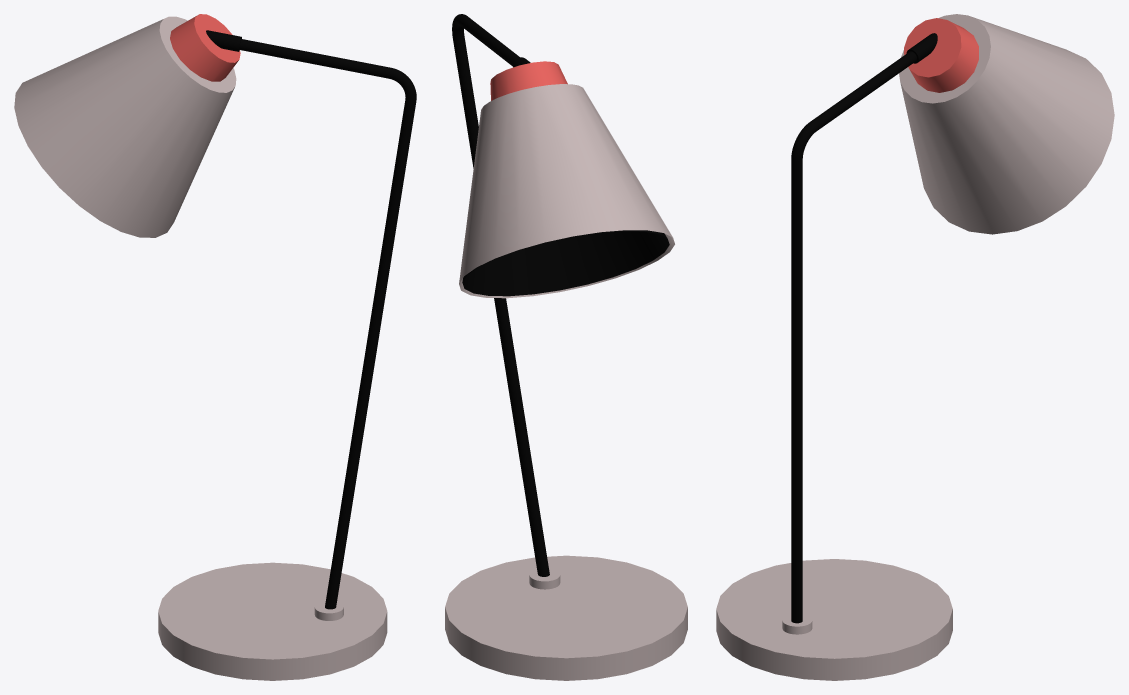
Rendered from lamp.obj.
3 views of the same model, side by side, from view 1: azimuth 30°, elevation 25°; view 2: azimuth 150°, elevation 25°; view 3: azimuth 270°, elevation 25° (orthographic). The views are drawn at different scales.
Visible parts, largest first — view 1: object 5, d_model:_002, d_model:_001, d_model:Group_001; view 2: object 5, d_model:_002, object 4, d_model:_001, d_model:Group_001; view 3: object 5, d_model:_002, d_model:_001, d_model:Group_001.
Boxes of the visible parts, x1=… form: object 5: x1=14, y1=16, x2=236, y2=237; d_model:_002: x1=158, y1=562, x2=387, y2=680; d_model:_001: x1=206, y1=30, x2=416, y2=609; d_model:Group_001: x1=170, y1=14, x2=240, y2=81; object 5: x1=459, y1=84, x2=674, y2=298; d_model:_002: x1=445, y1=555, x2=687, y2=680; object 4: x1=462, y1=230, x2=669, y2=296; d_model:_001: x1=452, y1=14, x2=549, y2=576; d_model:Group_001: x1=490, y1=61, x2=567, y2=100; object 5: x1=899, y1=14, x2=1114, y2=234; d_model:_002: x1=716, y1=559, x2=952, y2=680; d_model:_001: x1=791, y1=33, x2=937, y2=623; d_model:Group_001: x1=904, y1=18, x2=978, y2=92.
Bounding box in the file's own units: 10.83 × 20.48 × 12.34.
